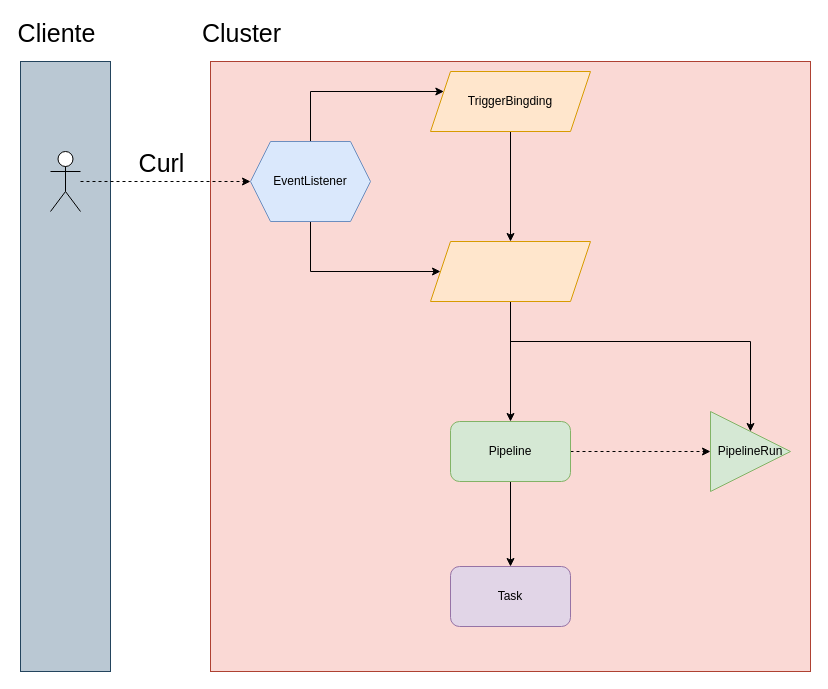
This 828x689 diagram has some shape labels left out. The centre of each missing label's shape, as x and y in pixels:
Actor: pixel 65 181
TriggerTemplate: pixel 510 271
